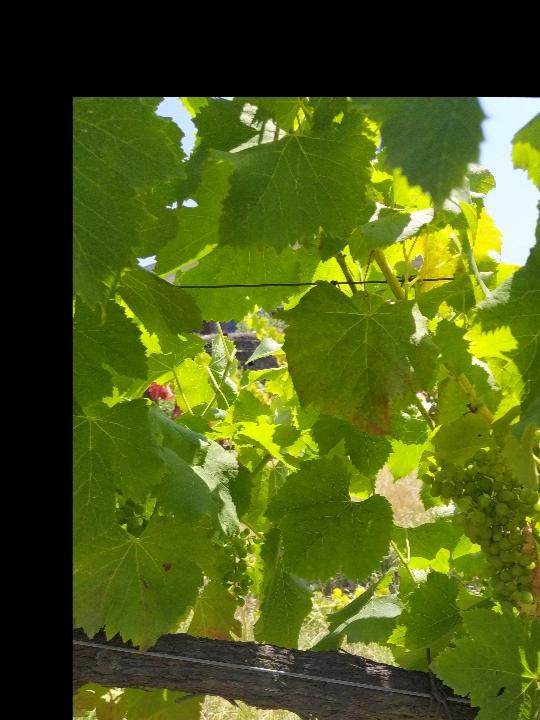grape: (423, 447, 540, 615), (213, 529, 264, 609)
